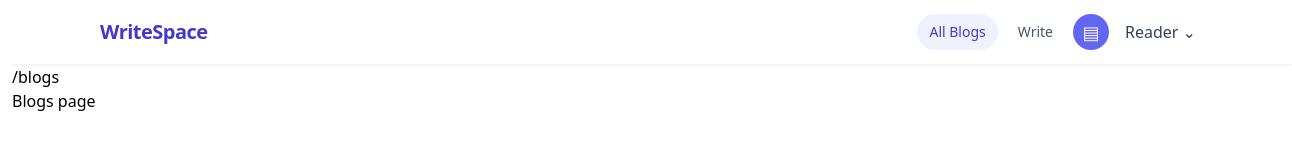
Test: Navbar › logs out, clears the session, and navigates home
Click the button "Reader ⌄" at (1160, 32), box [1117,12,1204,52]
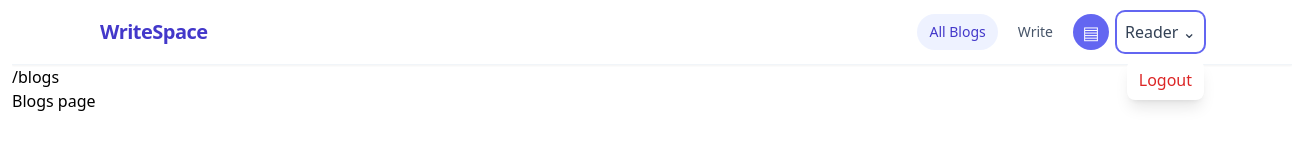
Click the button "Logout" at (1165, 80), box [1127,60,1204,100]
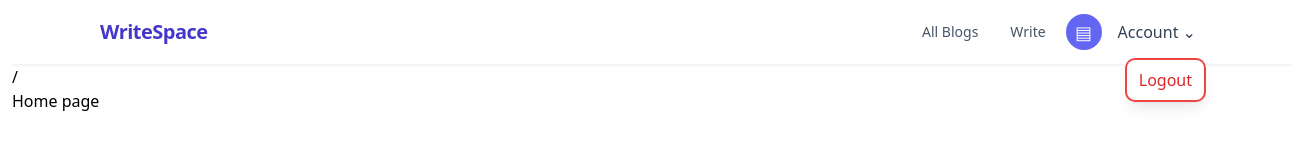
Check: the text named "Current location" reads "/", box [12,66,18,88]
Check: the text "Home page" is shown, box [12,90,99,112]
